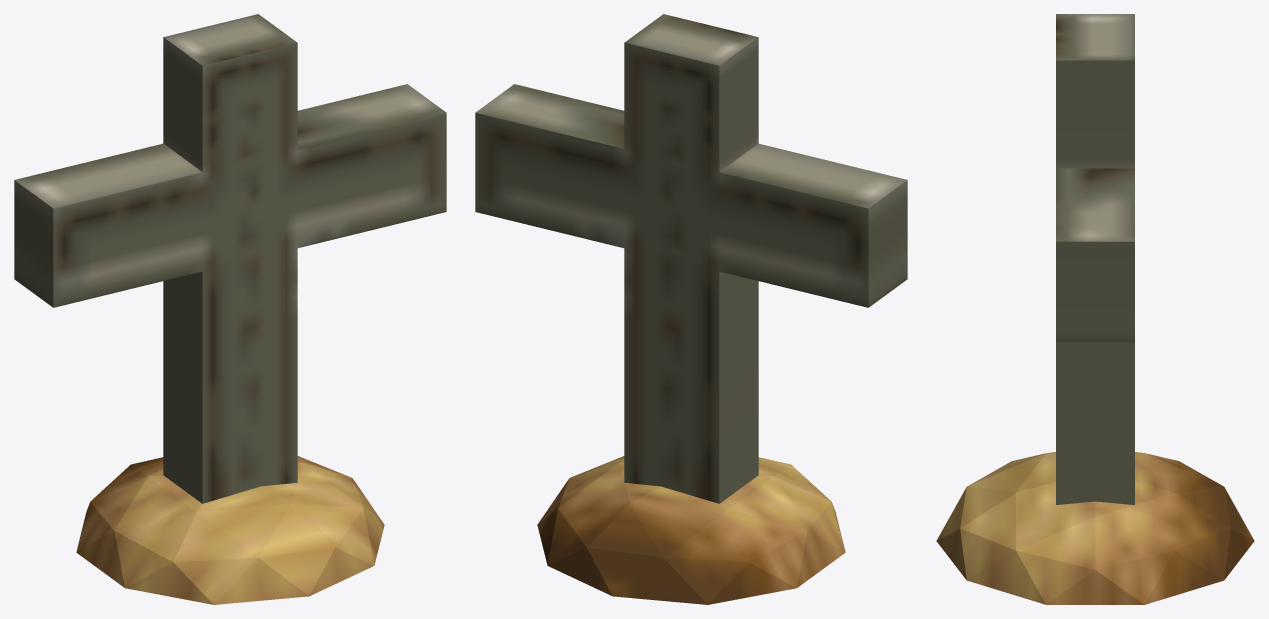
The model's file is Poly_Tomb_Stone_01.obj.
3 views of the same model, side by side, from view 1: azimuth 30°, elevation 25°; view 2: azimuth 150°, elevation 25°; view 3: azimuth 270°, elevation 25° (orthographic).
Visible parts, largest first — view 1: Icosphere; view 2: Icosphere; view 3: Icosphere.
Boxes of the visible parts, <box> form: Icosphere: <box>14,14,446,604</box>; Icosphere: <box>475,14,907,604</box>; Icosphere: <box>936,14,1254,604</box>.
Size of the model in its own units: 0.58 by 0.7031 by 0.4027.
Materials: 1 (1 with a texture image).
